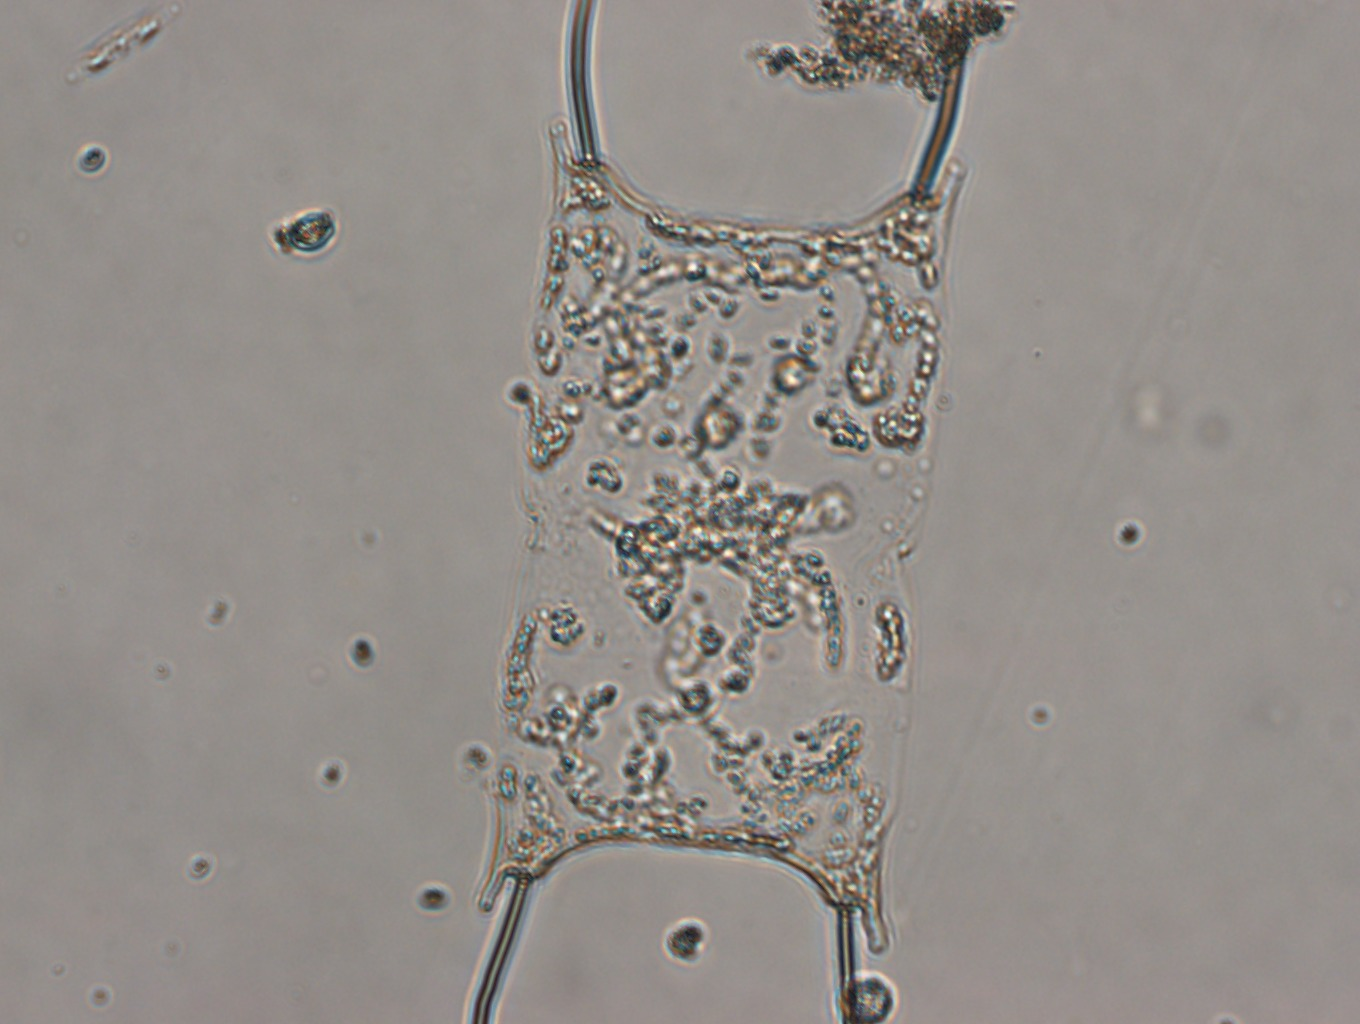biddulphia: (466, 1, 965, 1024)
